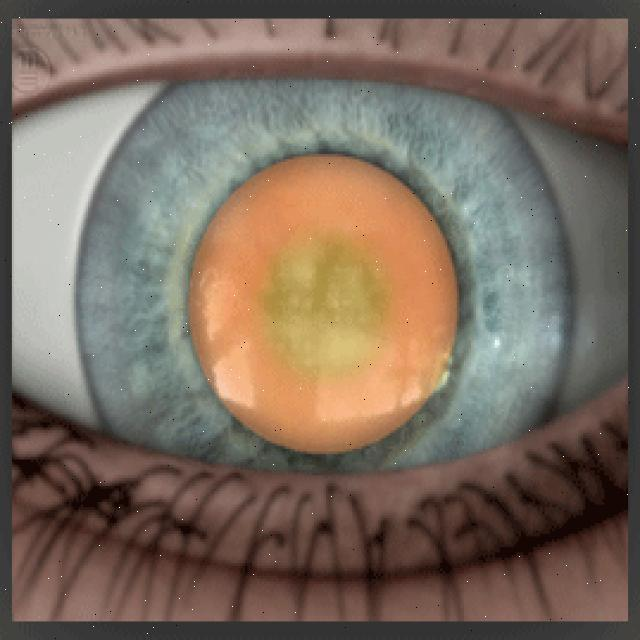Cataract: (58, 31, 574, 564)
